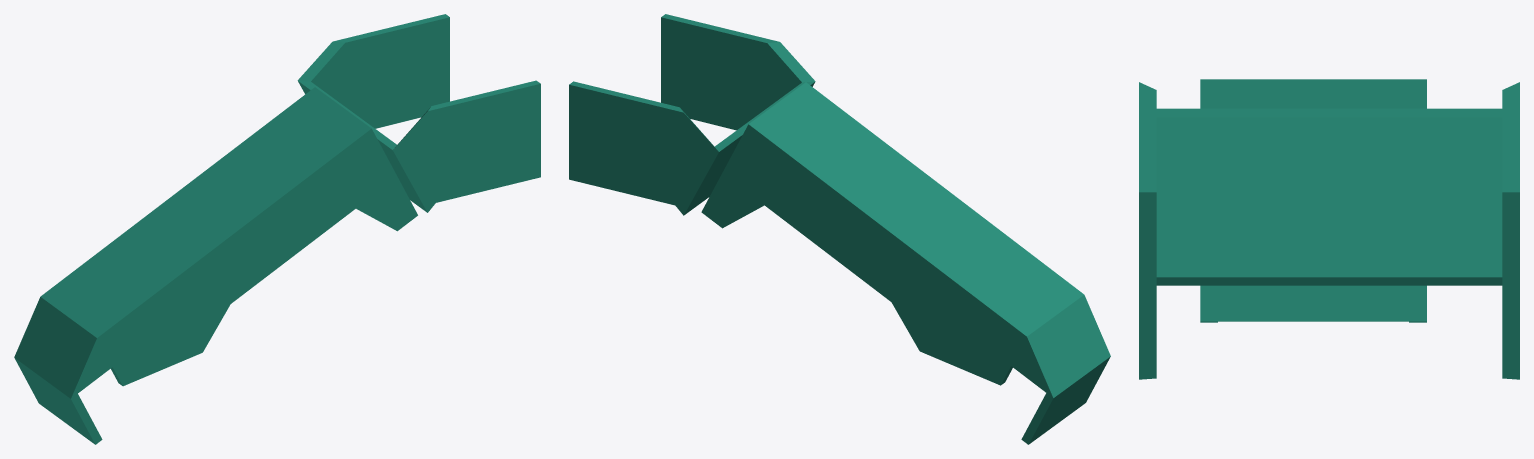
Rendered from left_end2_collision.dae.
The picture shows the model from 3 angles, left to right: view 1: azimuth 30°, elevation 25°; view 2: azimuth 150°, elevation 25°; view 3: azimuth 270°, elevation 25°; orthographic projection. The views are drawn at different scales.
Visible parts, largest first — view 1: left_end2_000; view 2: left_end2_000; view 3: left_end2_000.
Part boxes in pixels (left/top/right/bottom): left_end2_000: left=14, top=14, right=540, bottom=444; left_end2_000: left=569, top=14, right=1110, bottom=444; left_end2_000: left=1139, top=79, right=1519, bottom=379.
Bounding box in the file's own units: 0.1172 × 0.0425 × 0.0659.
